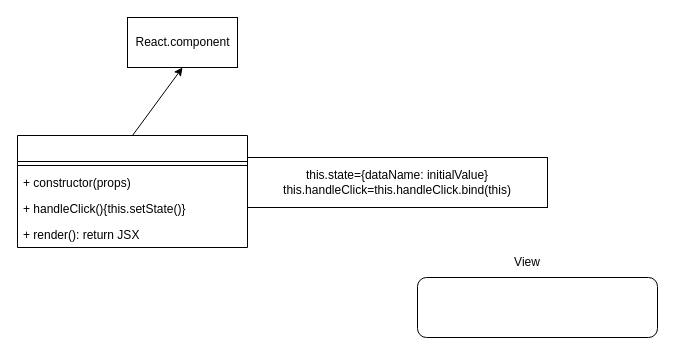
The diagram is 675 pixels wide and 355 high, and some of its shapes have lost their labels. The shapes that lost their labels are listed below. From the top down, each one's box as (x1, y1, x2, y2) in pixels, then its label:
(16, 134, 248, 248): MyComponent
(416, 276, 658, 338): <input value={this.state.dataName} onChange={this.handleChange} />
